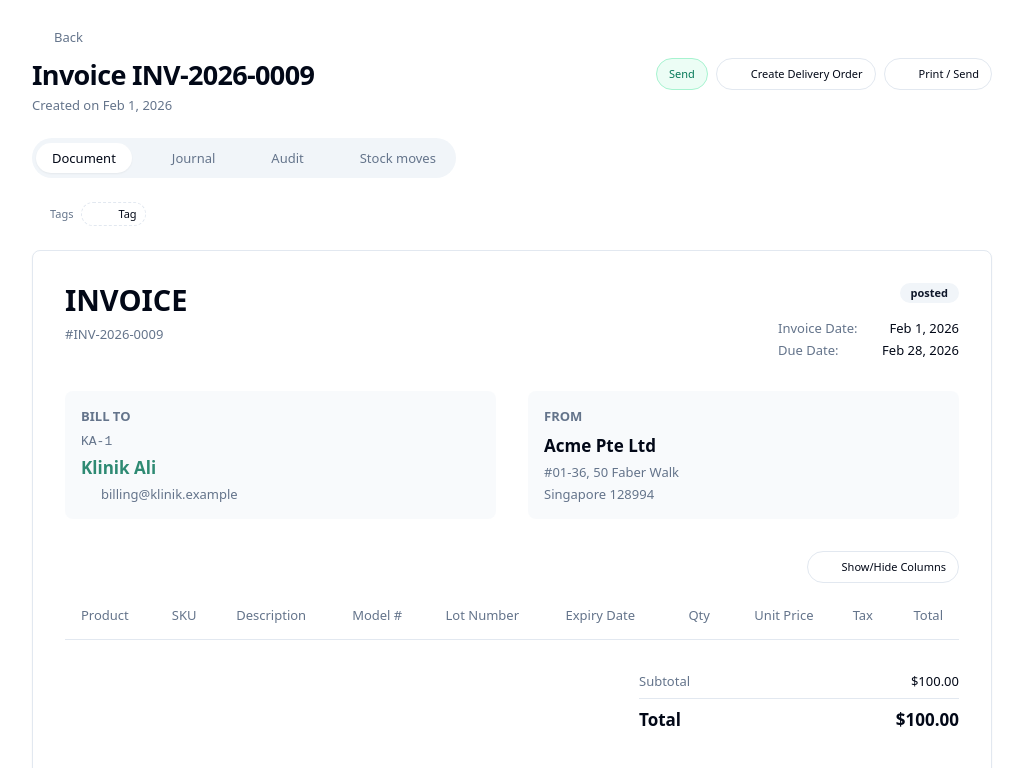
Test: InvoiceDetailPage — Journal tab (#883) › shows the actual entry and links each posted line to the account ledger
Expected: the heading "Invoice INV-2026-0009" is shown, [32,56,314,93]
Press the mouse on the tab "Journal" at (182, 158), box [132,143,231,173]
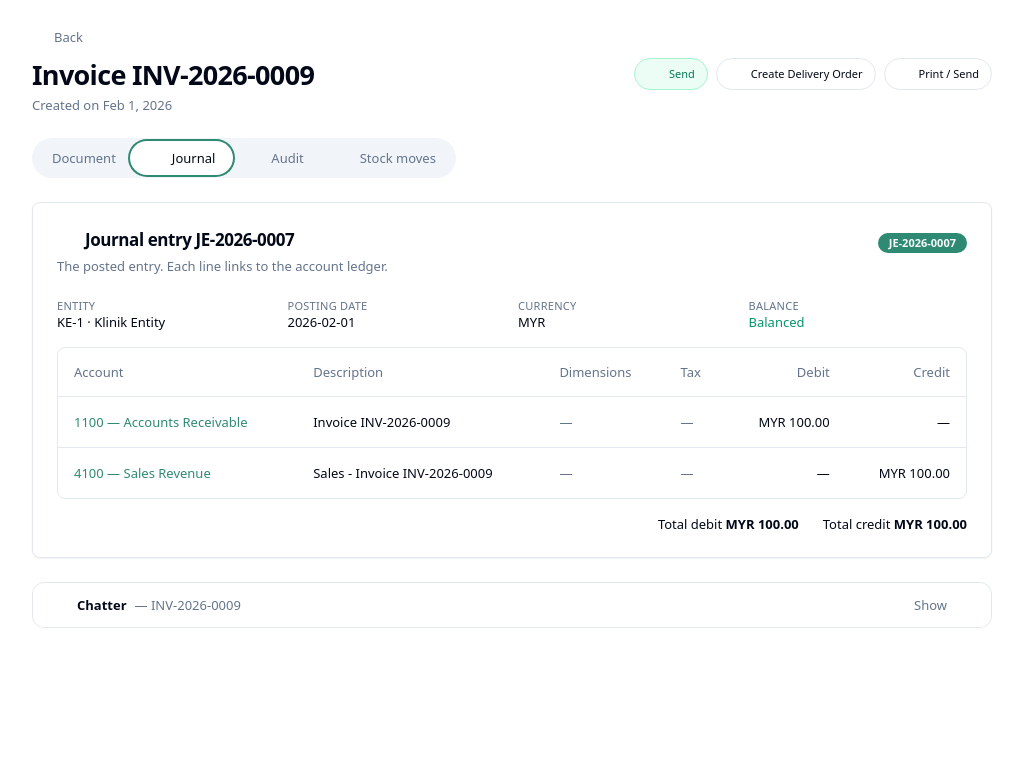
Expected: the heading "Journal entry JE-2026-0007" is shown, [57,228,294,251]
